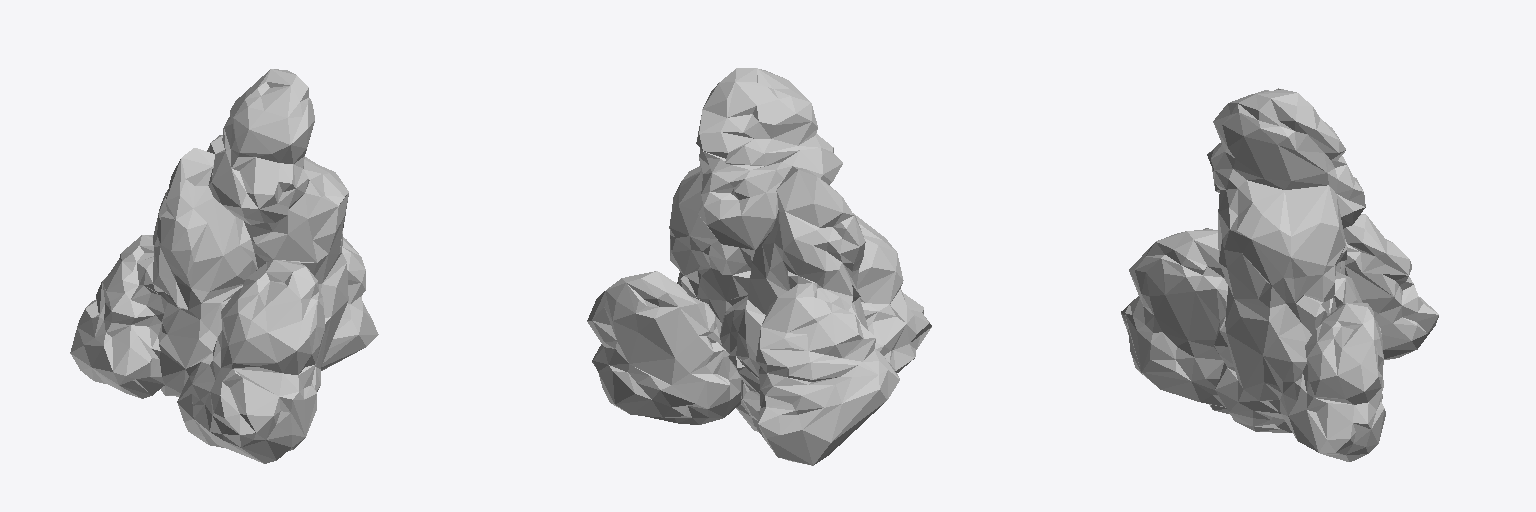
The model's file is sket.obj.
The picture shows the model from 3 angles: view 1: azimuth 30°, elevation 25°; view 2: azimuth 150°, elevation 25°; view 3: azimuth 270°, elevation 25°; orthographic projection.
Parts seen in each view (by area): view 1: low.005_Group33096.006; view 2: low.005_Group33096.006; view 3: low.005_Group33096.006.
Part boxes in pixels (x1,y1,x2,y2): low.005_Group33096.006: (70,69,378,463); low.005_Group33096.006: (587,68,931,465); low.005_Group33096.006: (1121,88,1438,461).
Bounding box in the file's own units: 2.55 × 3.01 × 2.48.